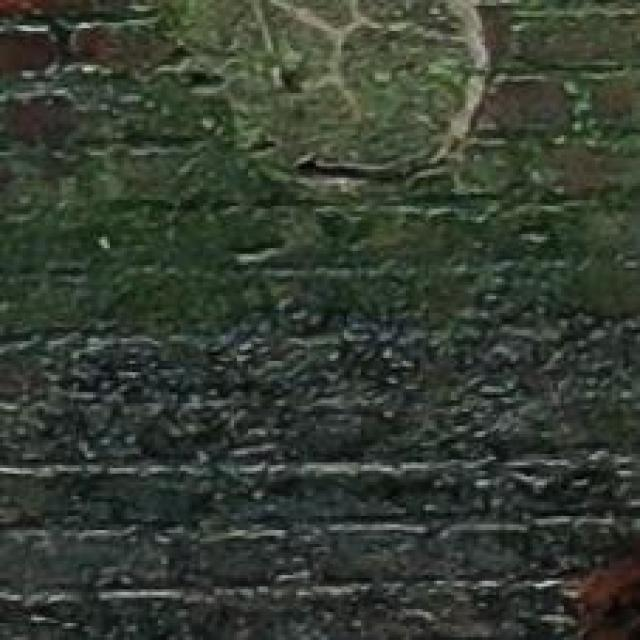Crack: (124, 0, 503, 530)
